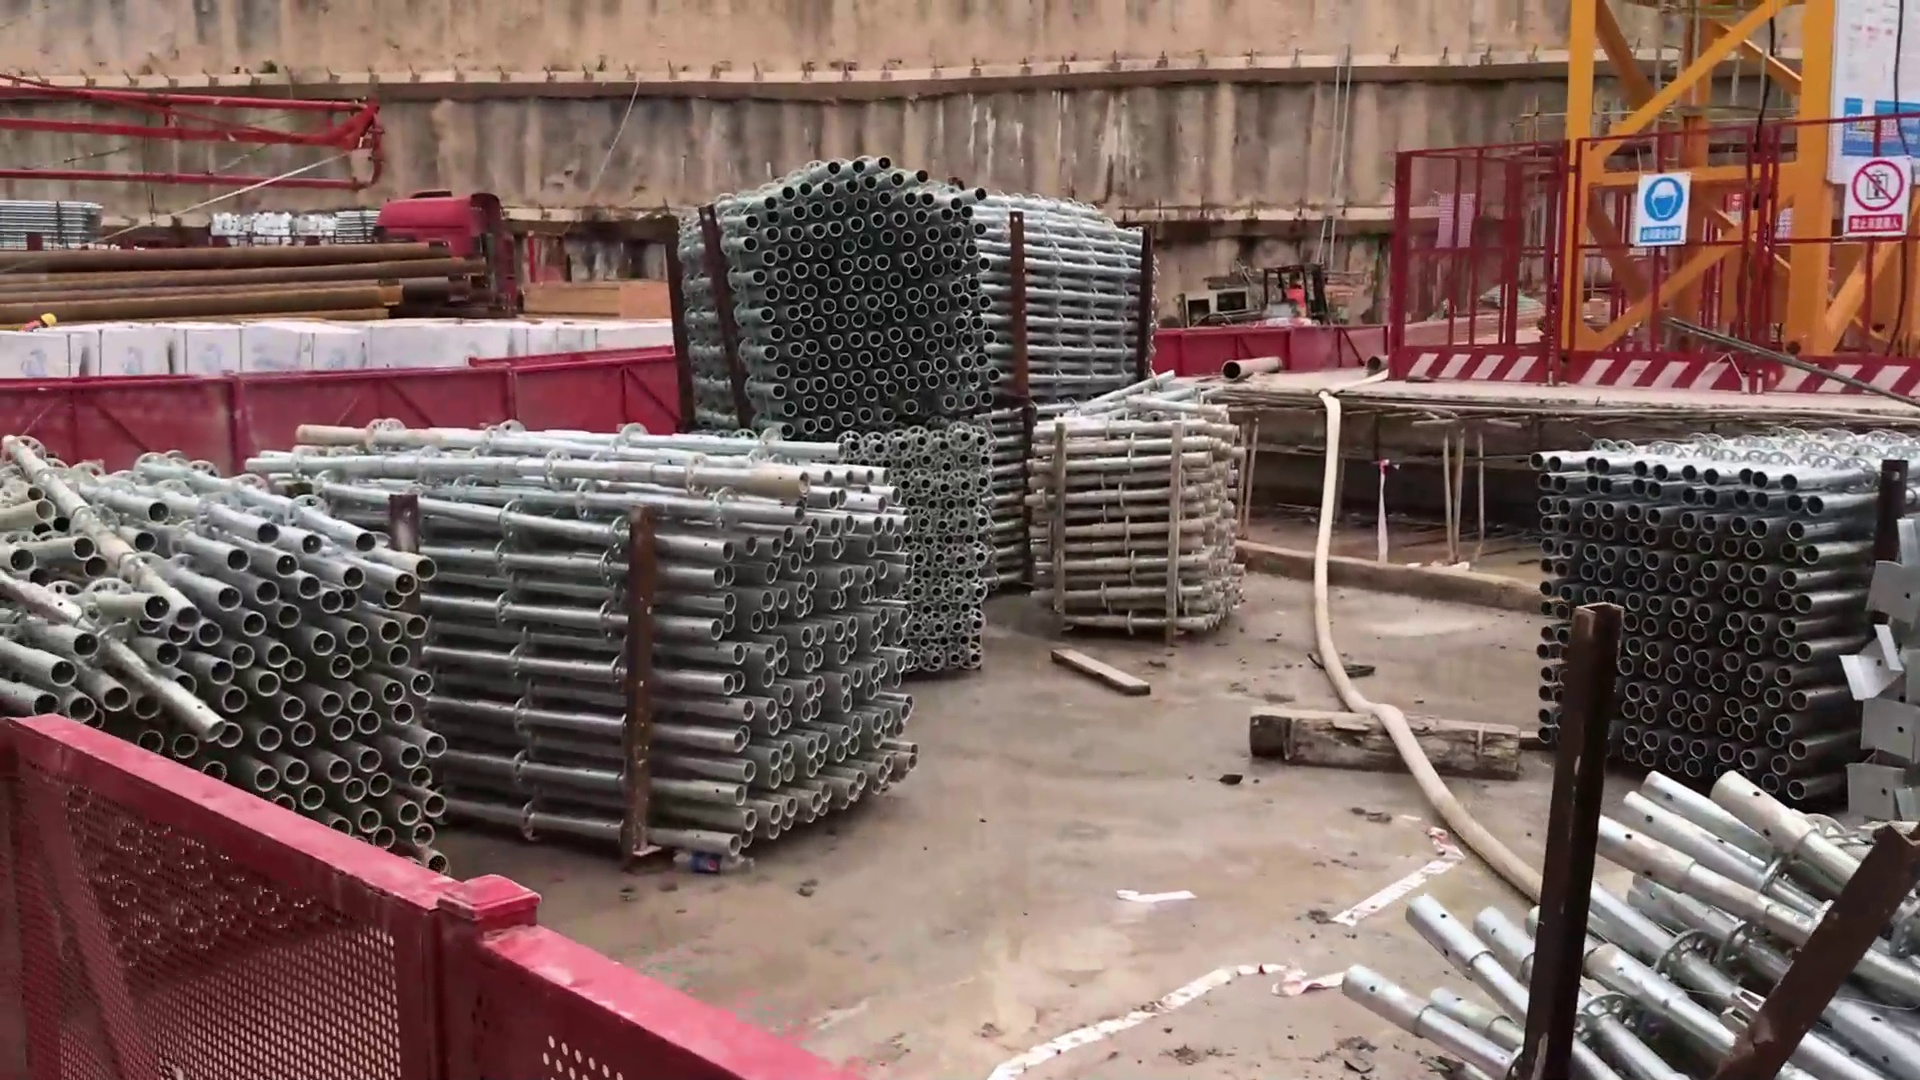fence: (26, 727, 676, 1080), (1386, 138, 1575, 400)
helmet: (40, 311, 58, 327)
scaffold: (429, 404, 928, 861), (1, 448, 447, 872), (1437, 781, 1917, 1080), (1528, 426, 1870, 808), (721, 144, 1174, 425), (1015, 386, 1249, 633)
slogan: (1825, 135, 1911, 247), (1630, 171, 1700, 249)
wood: (527, 272, 667, 338)
